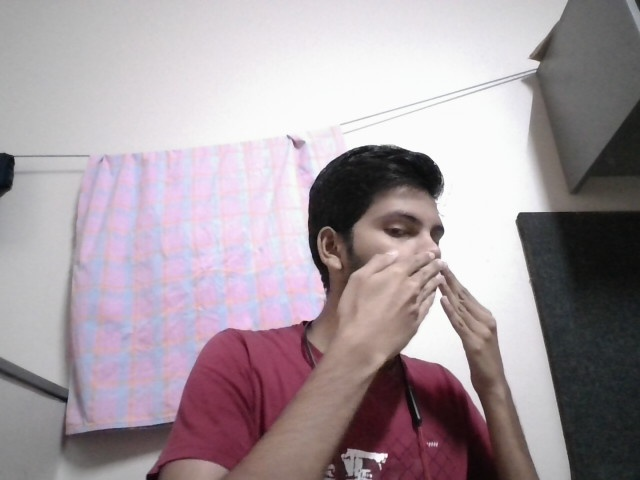Thank You: (339, 249, 518, 384)
